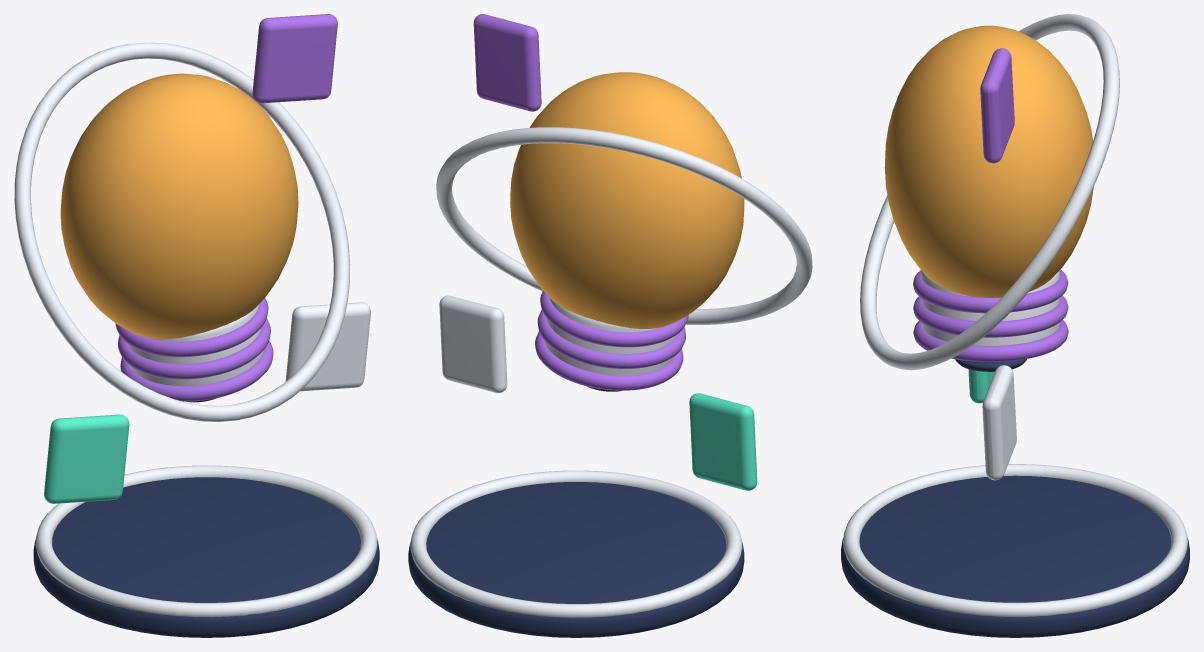
File: carousel-ideas.glb
3 renders of one model, left to right at view 1: azimuth 30°, elevation 25°; view 2: azimuth 150°, elevation 25°; view 3: azimuth 270°, elevation 25°, orthographic. The views are drawn at different scales.
Visible parts, largest first — view 1: Luminous idea bulb, Floating display plinth, Creative orbit, Plinth accent, Floating idea tile.001, Floating idea tile, Floating idea tile.002, Socket thread.001, Socket thread.002, Porcelain socket, Socket thread; view 2: Luminous idea bulb, Floating display plinth, Creative orbit, Plinth accent, Floating idea tile.002, Floating idea tile.001, Floating idea tile, Socket thread, Socket thread.001, Porcelain socket, Socket thread.002; view 3: Luminous idea bulb, Floating display plinth, Creative orbit, Plinth accent, Floating idea tile.001, Floating idea tile.002, Socket thread.002, Porcelain socket, Socket thread.001, Socket thread, Floating idea tile, Idea contact.
Part boxes in pixels (x1=…): Luminous idea bulb: x1=60, y1=73, x2=298, y2=339; Floating display plinth: x1=33, y1=477, x2=379, y2=637; Creative orbit: x1=14, y1=42, x2=350, y2=421; Plinth accent: x1=35, y1=465, x2=377, y2=617; Floating idea tile.001: x1=252, y1=14, x2=337, y2=103; Floating idea tile: x1=44, y1=414, x2=129, y2=503; Floating idea tile.002: x1=285, y1=302, x2=370, y2=391; Socket thread.001: x1=118, y1=318, x2=270, y2=379; Socket thread.002: x1=115, y1=298, x2=268, y2=357; Porcelain socket: x1=127, y1=304, x2=263, y2=386; Socket thread: x1=120, y1=340, x2=273, y2=401; Luminous idea bulb: x1=510, y1=72, x2=744, y2=328; Floating display plinth: x1=408, y1=482, x2=744, y2=637; Creative orbit: x1=436, y1=127, x2=812, y2=324; Plinth accent: x1=410, y1=470, x2=742, y2=617; Floating idea tile.002: x1=439, y1=295, x2=507, y2=393; Floating idea tile.001: x1=473, y1=14, x2=541, y2=111; Floating idea tile: x1=689, y1=393, x2=757, y2=490; Socket thread: x1=535, y1=331, x2=683, y2=390; Socket thread.001: x1=537, y1=309, x2=685, y2=368; Porcelain socket: x1=544, y1=298, x2=677, y2=375; Socket thread.002: x1=540, y1=290, x2=688, y2=347; Luminous idea bulb: x1=884, y1=25, x2=1093, y2=297; Floating display plinth: x1=841, y1=475, x2=1189, y2=637; Creative orbit: x1=860, y1=14, x2=1119, y2=370; Plinth accent: x1=843, y1=464, x2=1187, y2=616; Floating idea tile.001: x1=980, y1=48, x2=1014, y2=163; Floating idea tile.002: x1=982, y1=365, x2=1016, y2=480; Socket thread.002: x1=913, y1=269, x2=1068, y2=313; Porcelain socket: x1=921, y1=270, x2=1059, y2=345; Socket thread.001: x1=913, y1=295, x2=1068, y2=337; Socket thread: x1=913, y1=320, x2=1068, y2=361; Floating idea tile: x1=968, y1=369, x2=994, y2=403; Idea contact: x1=955, y1=359, x2=1026, y2=371.
Size of the model in its own units: 3.25 by 4.69 by 2.72.
